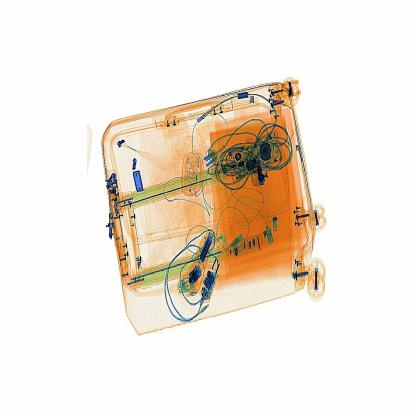pliers: (249, 162, 276, 192)
